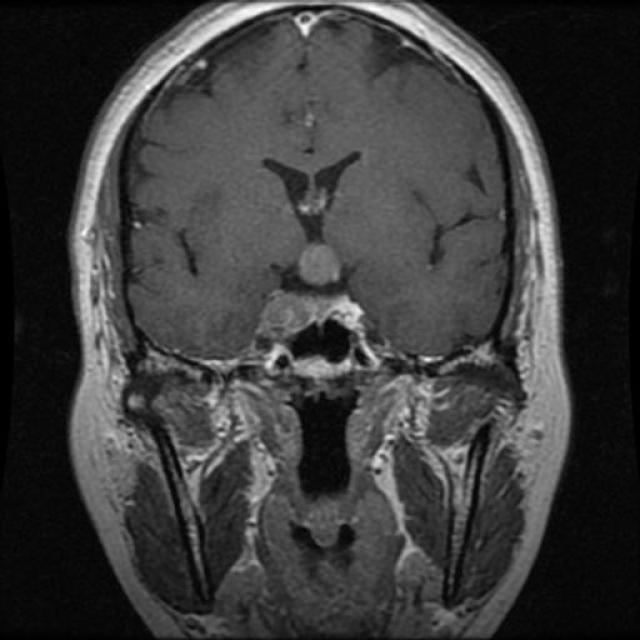pituitary: (285, 170, 365, 350)
